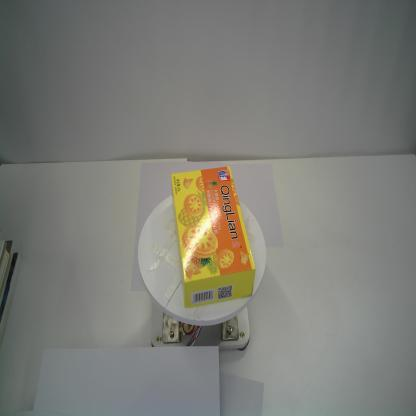Dessert: (170, 164, 257, 310)
